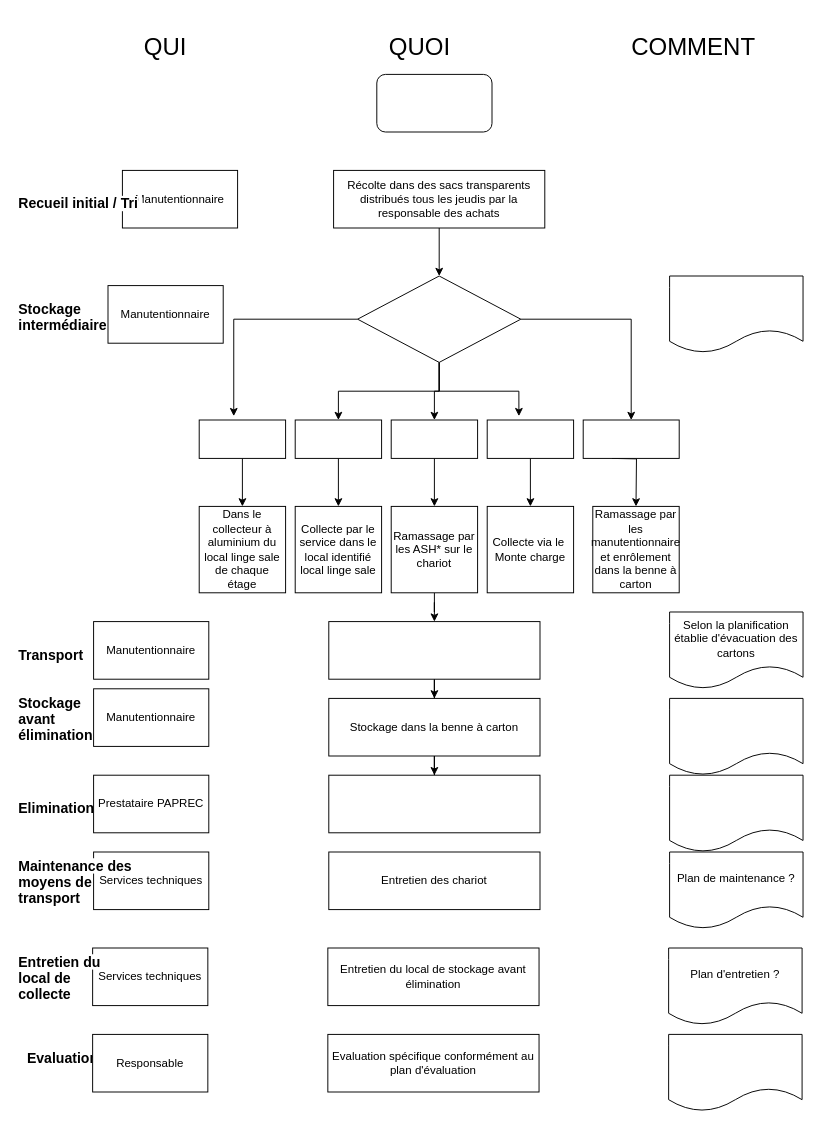
This 820x1128 diagram has some shape labels left out. The shapes that lost their labels are listed below. From the top down, each one's centre as x and y in pixels, then its label:
point 434,102: Déchet carton et film de palétisation
point 439,318: Dépot des sacs sur le chariot de nettoyage
point 242,438: EHPAD
point 338,438: SMR
point 434,438: Bureau
point 530,438: USLD-MEDECINE
point 630,438: Pharmacie/Cuisine centrale
point 434,650: Transport du local linge sale vers la benne cartons
point 434,803: Elimination une fois la benne remplie à la demande du responsable du ST
